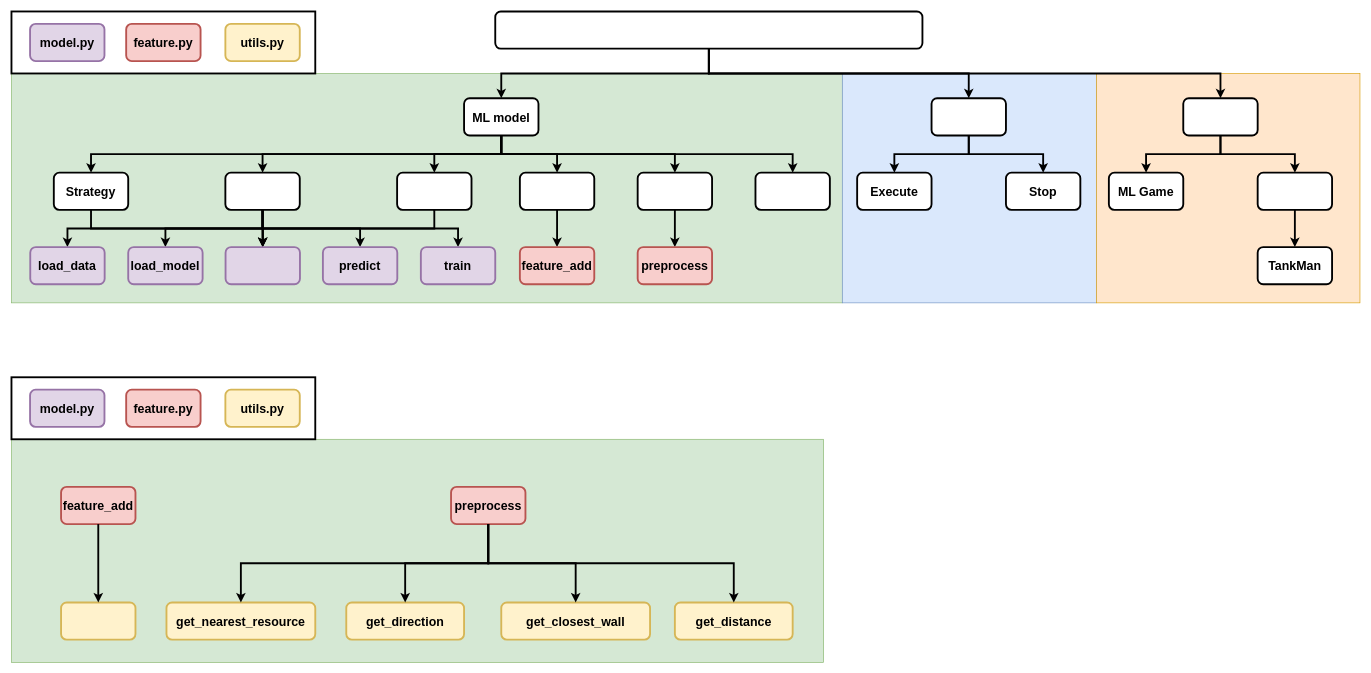
Some shapes in this 1371 by 673 pixel diagram are drawn without their labels. Here are the shapes that lost their labels. From the top down, the centre of each, then its label:
the point at 708,29: 坦克車
the point at 968,116: GUI
the point at 1220,116: 遊戲引擎
the point at 262,190: TANK
the point at 434,190: GUN
the point at 557,190: reset
the point at 674,190: update
the point at 792,190: init
the point at 1294,190: PAIA
the point at 262,265: save_model
the point at 98,620: get_target
